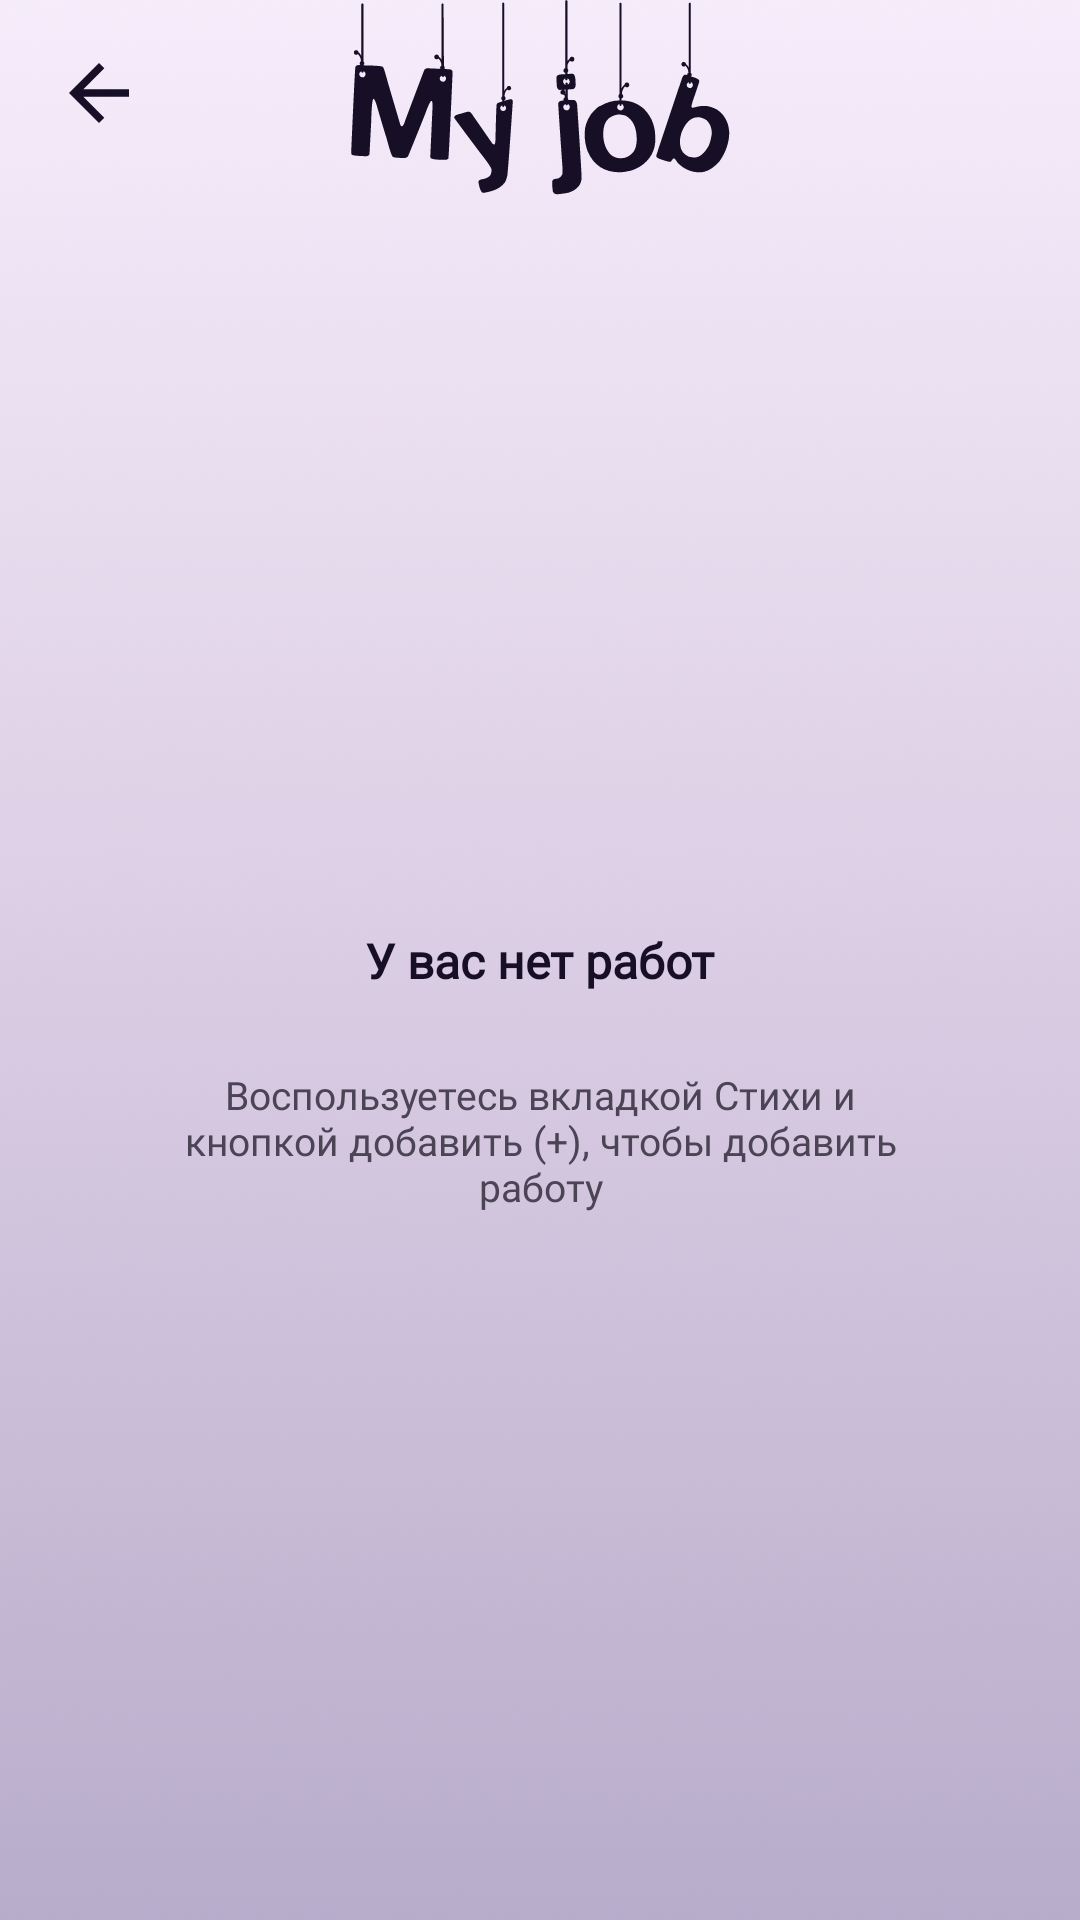

Icons on this 1080px×1920px Android screen, each with the point to tap as (x=x, y=y):
back: (x=99, y=93)
